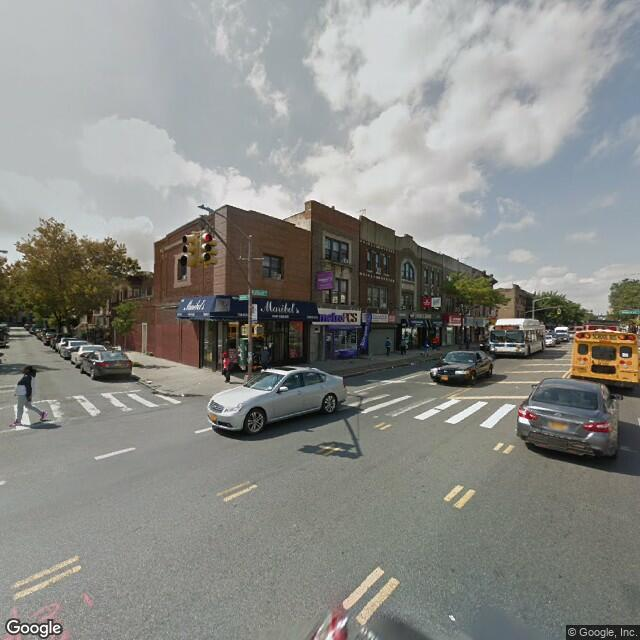litter: (448, 615, 456, 622), (148, 379, 153, 384)
